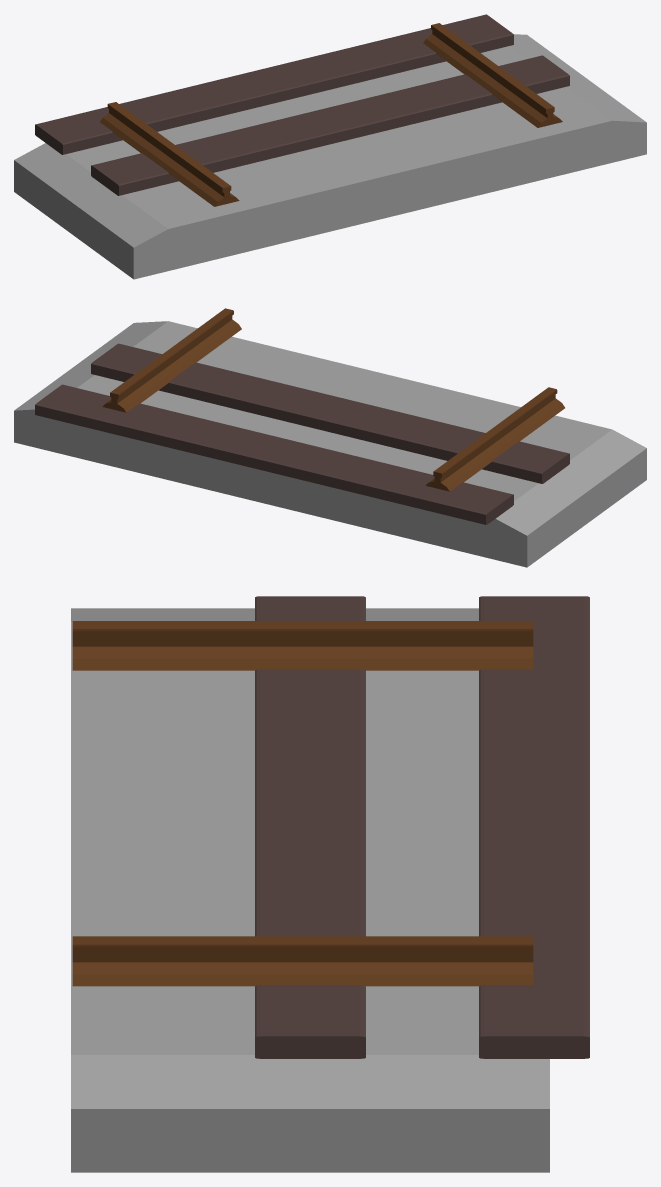
Rendered from railPiece.fbx.
The picture shows the model from 3 angles, top to bottom: view 1: azimuth 30°, elevation 25°; view 2: azimuth 150°, elevation 25°; view 3: azimuth 270°, elevation 25°; orthographic projection. The views are drawn at different scales.
Visible parts, largest first — view 1: RailPiece; view 2: RailPiece; view 3: RailPiece.
Part boxes in pixels (bbox=[...]): RailPiece: bbox=[14, 14, 646, 279]; RailPiece: bbox=[14, 308, 646, 567]; RailPiece: bbox=[71, 596, 589, 1172].
Bounding box in the file's own units: 286 × 36.82 × 125.
